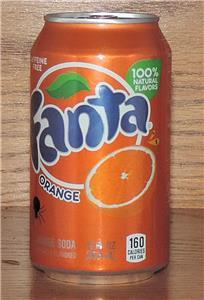metal: (30, 12, 172, 273)
